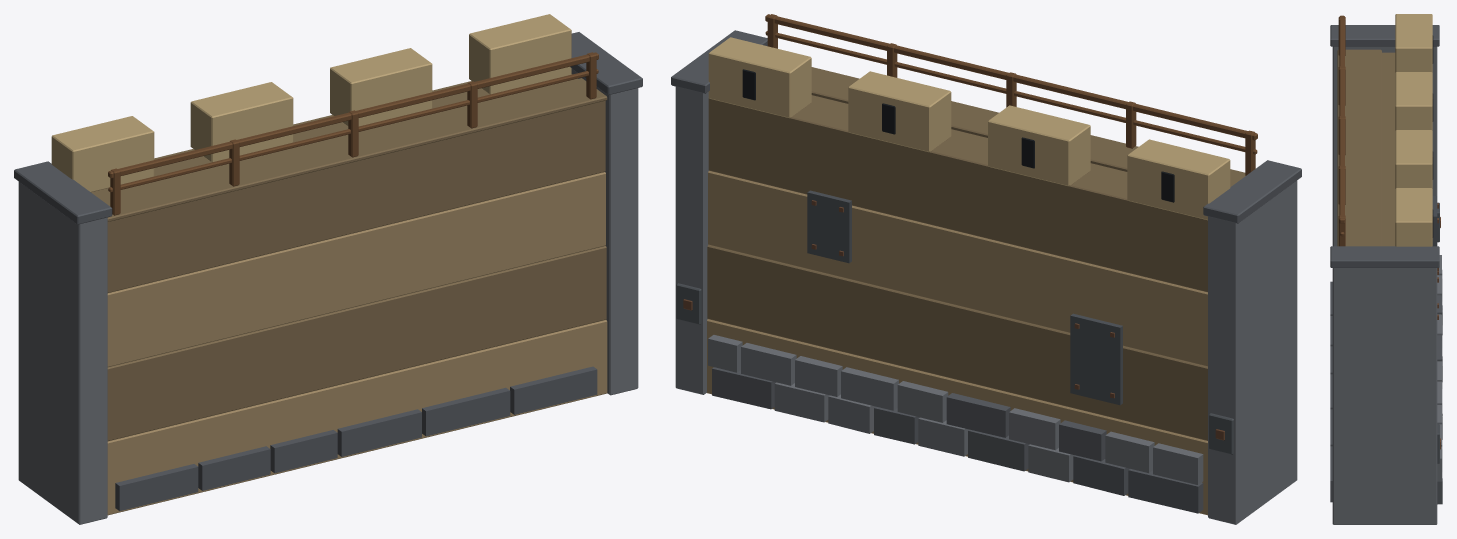
Rendered from mdl_wall_segment_a_v1.glb.
3 views of the same model, side by side, from view 1: azimuth 30°, elevation 25°; view 2: azimuth 150°, elevation 25°; view 3: azimuth 270°, elevation 25° (orthographic). The views are drawn at different scales.
Parts seen in each view (by area): view 1: GEO_Wall_Segment_A, GEO_Wall_Segment_A_Detail; view 2: GEO_Wall_Segment_A, GEO_Wall_Segment_A_Detail; view 3: GEO_Wall_Segment_A, GEO_Wall_Segment_A_Detail.
Part boxes in pixels (bbox=[...]): GEO_Wall_Segment_A: bbox=[14, 14, 642, 524]; GEO_Wall_Segment_A_Detail: bbox=[115, 366, 597, 511]; GEO_Wall_Segment_A: bbox=[671, 14, 1301, 524]; GEO_Wall_Segment_A_Detail: bbox=[708, 190, 1203, 513]; GEO_Wall_Segment_A: bbox=[1330, 14, 1440, 524]; GEO_Wall_Segment_A_Detail: bbox=[1330, 196, 1442, 504].
Bounding box in the file's own units: 7.05 × 4.06 × 1.42.
